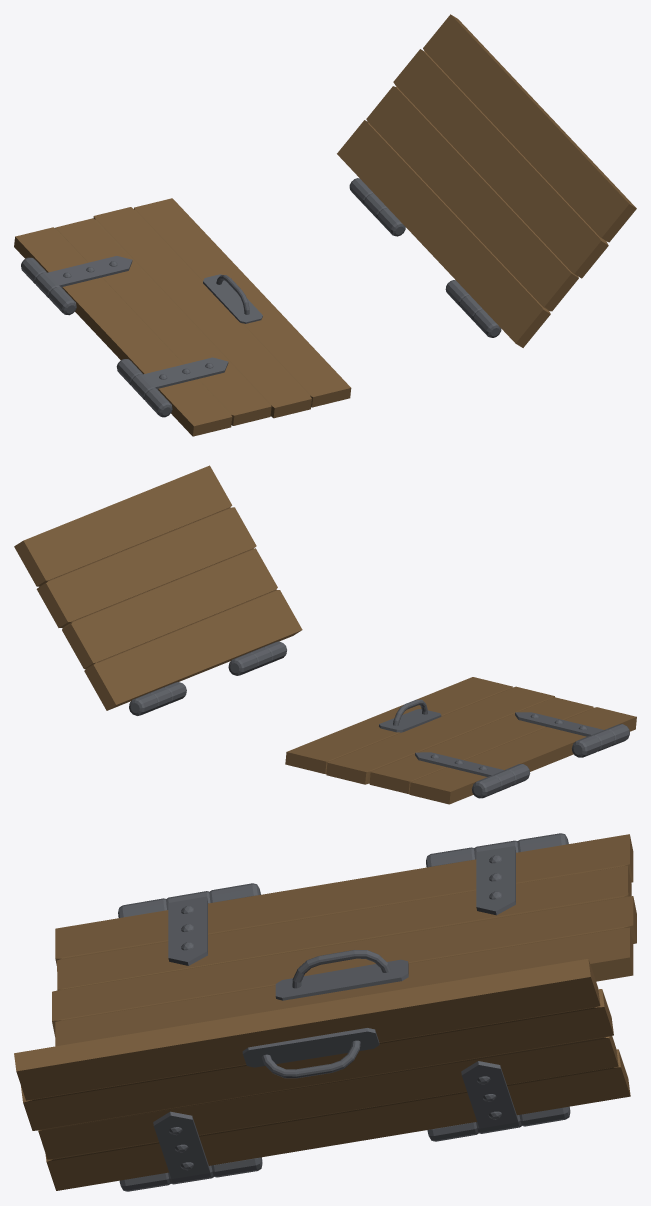
File: Basement doors opened.fbx
3 renders of one model, top to bottom at view 1: azimuth 30°, elevation 25°; view 2: azimuth 150°, elevation 25°; view 3: azimuth 270°, elevation 25°, orthographic. The views are drawn at different scales.
Visible parts, largest first — view 1: Doors opened; view 2: Doors opened; view 3: Doors opened.
Boxes of the visible parts, <box> form: Doors opened: <box>14,14,636,436</box>; Doors opened: <box>14,465,636,804</box>; Doors opened: <box>14,833,636,1191</box>.
Bounding box in the file's own units: 3.15 × 1.34 × 2.37.
